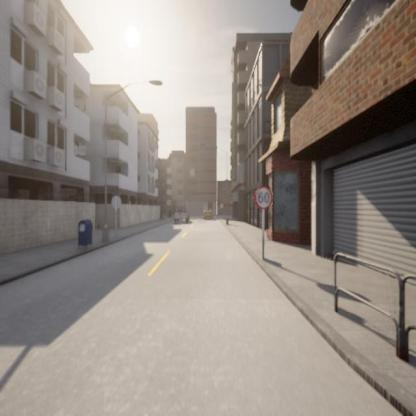traffic_sign_60: (254, 185, 273, 209)
